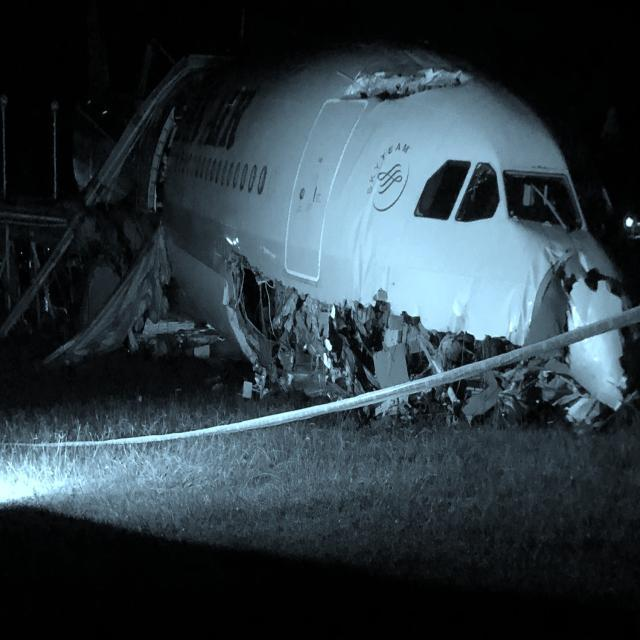crack: (335, 67, 483, 118)
